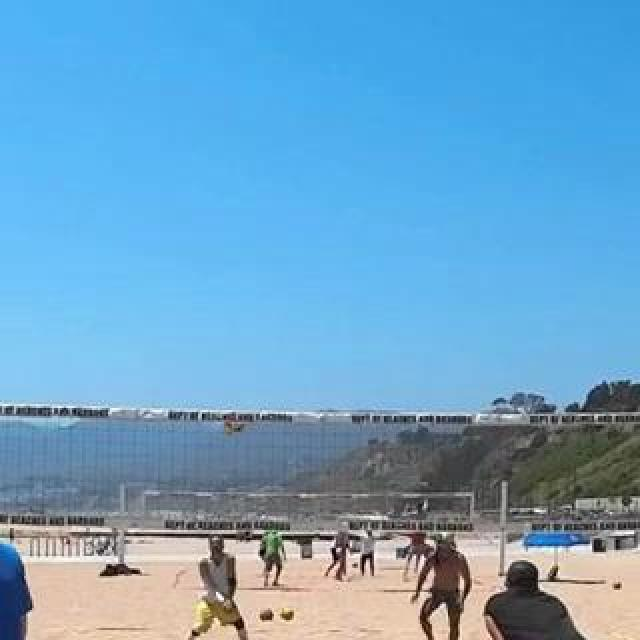volleyball: (222, 410, 246, 434), (259, 606, 275, 622), (281, 607, 295, 621), (614, 582, 622, 590)
